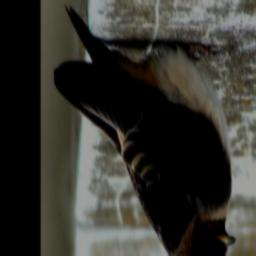Swallow: (52, 1, 237, 256)
